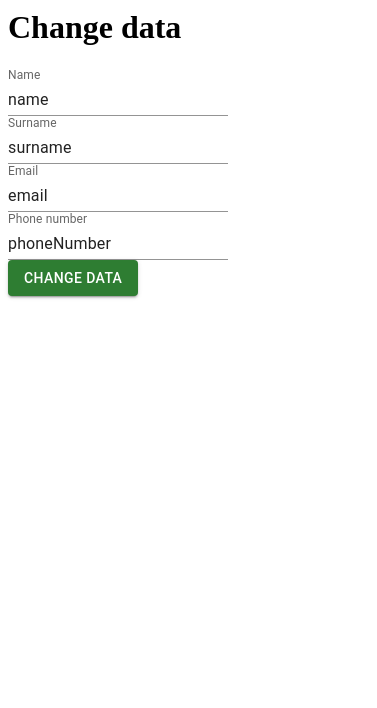
Test: UpdateUser › should show success snackbar after success update
Click the button "Change data" at (73, 278), box top-left (8, 260), bottom-right (138, 296)
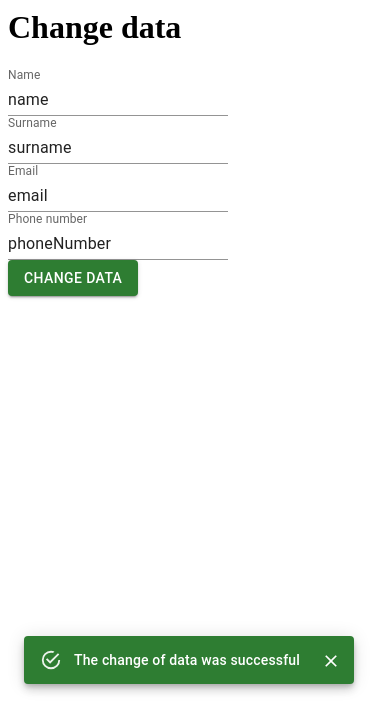
expect the text "The change of data was successful" is shown: met, box top-left (74, 652), bottom-right (300, 668)
